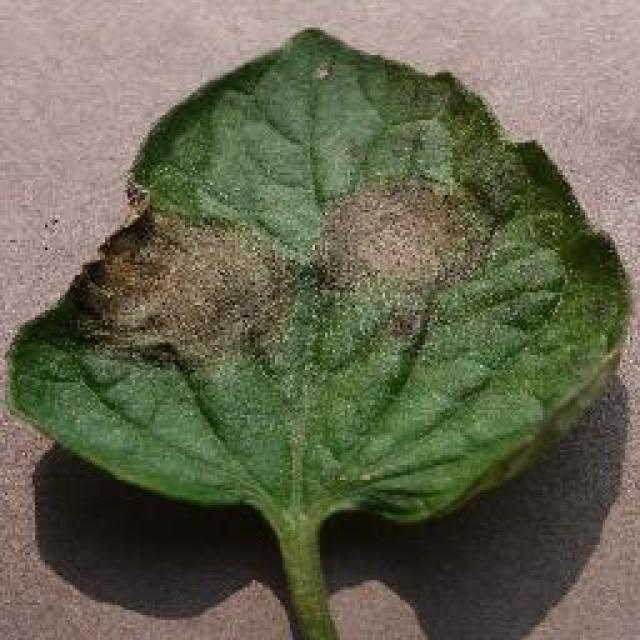Tomato Late Blight: (72, 127, 618, 388)
